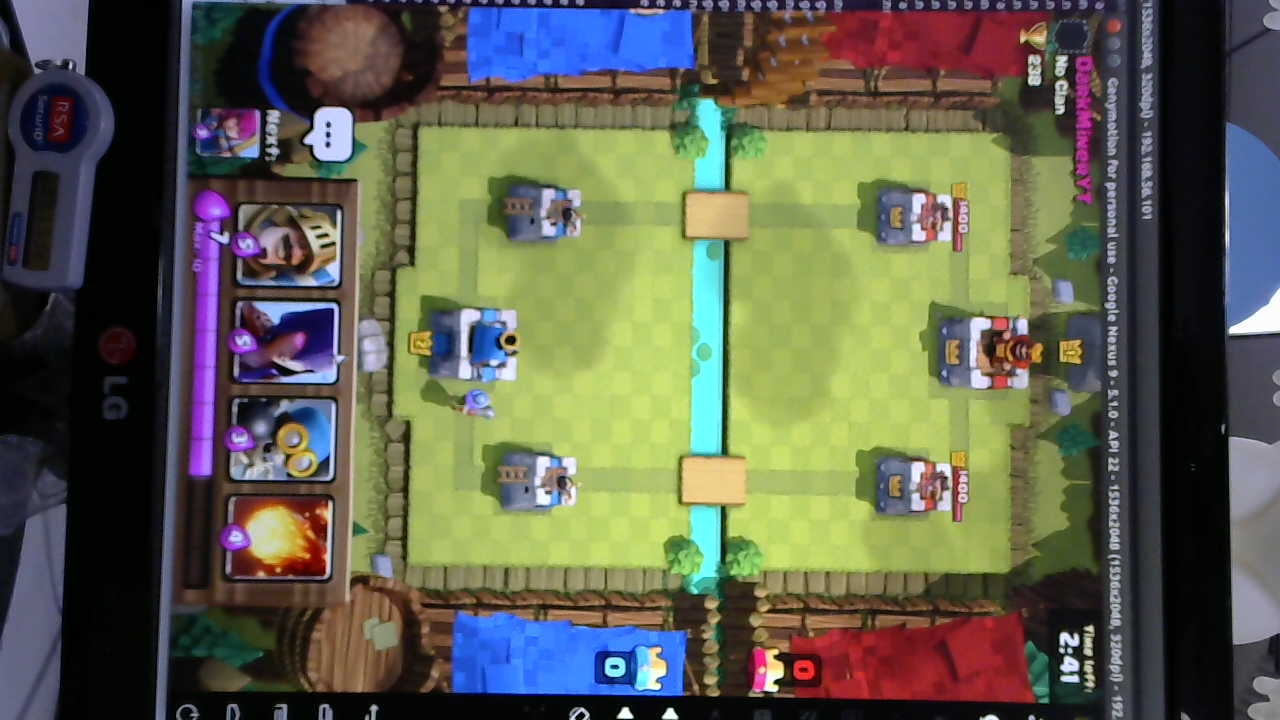arena: (506, 184, 589, 242), (504, 449, 577, 510)
earena: (875, 189, 957, 250), (875, 461, 960, 517)
eking: (940, 314, 1039, 392)
king: (430, 310, 525, 381)
musketeer: (446, 387, 497, 422)
